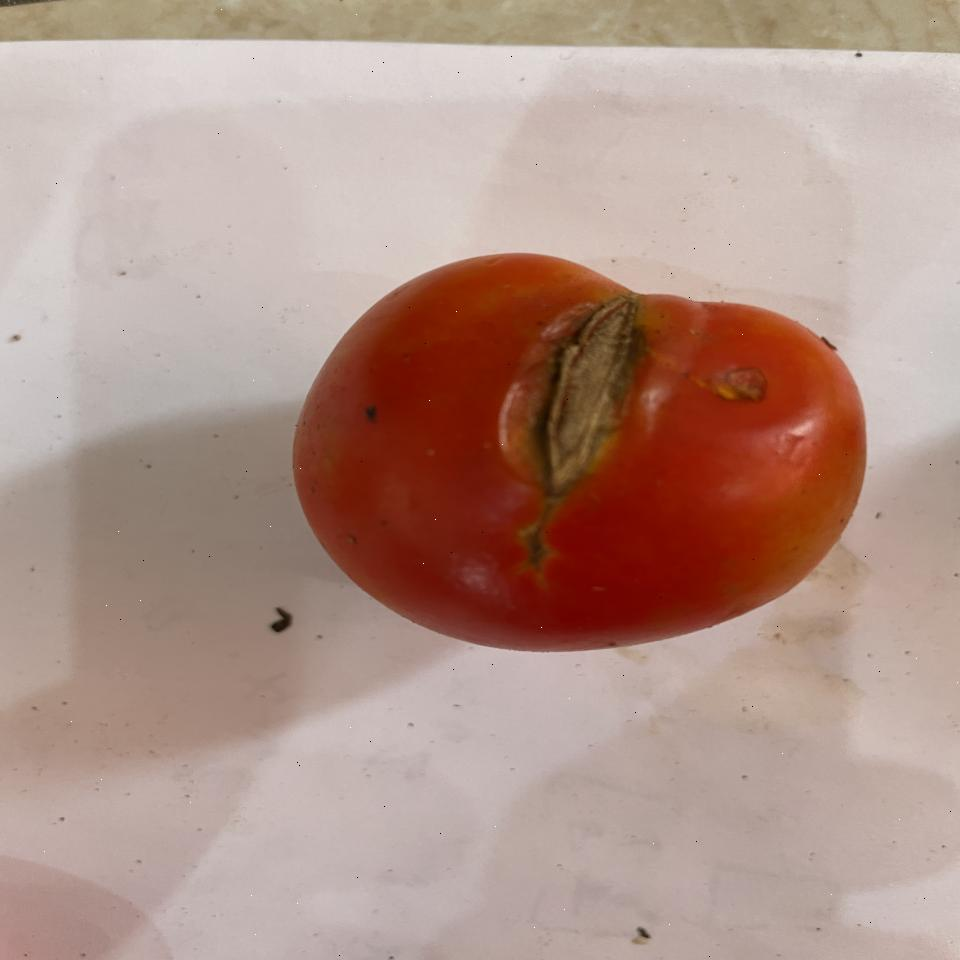Cracking: (484, 296, 665, 524)
